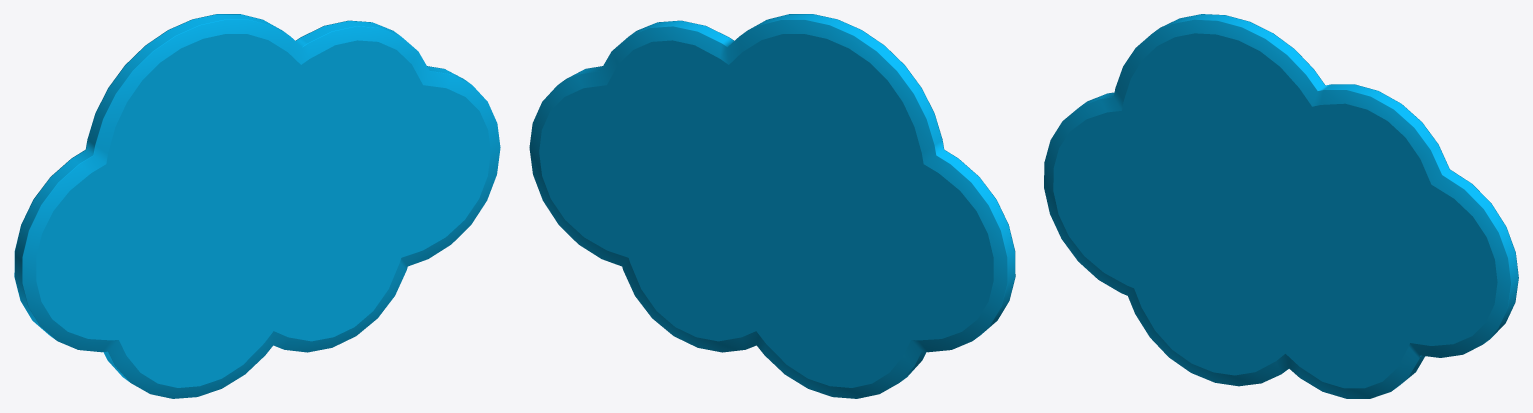
File: Cloud.fbx
3 renders of one model, left to right at view 1: azimuth 30°, elevation 25°; view 2: azimuth 150°, elevation 25°; view 3: azimuth 330°, elevation 25°, orthographic. The views are drawn at different scales.
Parts seen in each view (by area): view 1: Cloud03; view 2: Cloud03; view 3: Cloud03.
Part boxes in pixels (box(x1,y1,x2,y2)): Cloud03: box(14, 14, 500, 398); Cloud03: box(529, 14, 1015, 398); Cloud03: box(1044, 14, 1518, 398).
Bounding box in the file's own units: 408 × 302 × 18.02.
